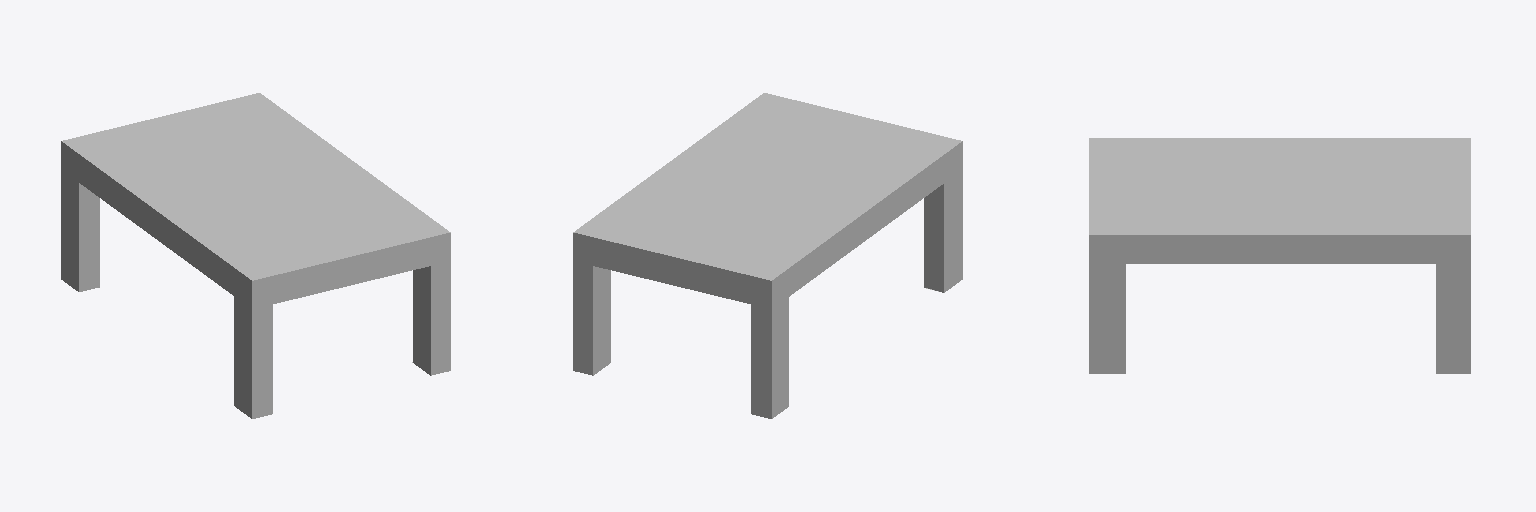
Rendered from table_971x00.obj.
The picture shows the model from 3 angles: view 1: azimuth 30°, elevation 25°; view 2: azimuth 150°, elevation 25°; view 3: azimuth 270°, elevation 25°; orthographic projection.
Parts seen in each view (by area): view 1: Table_971x0; view 2: Table_971x0; view 3: Table_971x0.
Boxes of the visible parts, <box> form: Table_971x0: <box>61,93,450,418</box>; Table_971x0: <box>573,93,962,418</box>; Table_971x0: <box>1089,138,1470,373</box>.
Size of the model in its own units: 3 by 2 by 5.